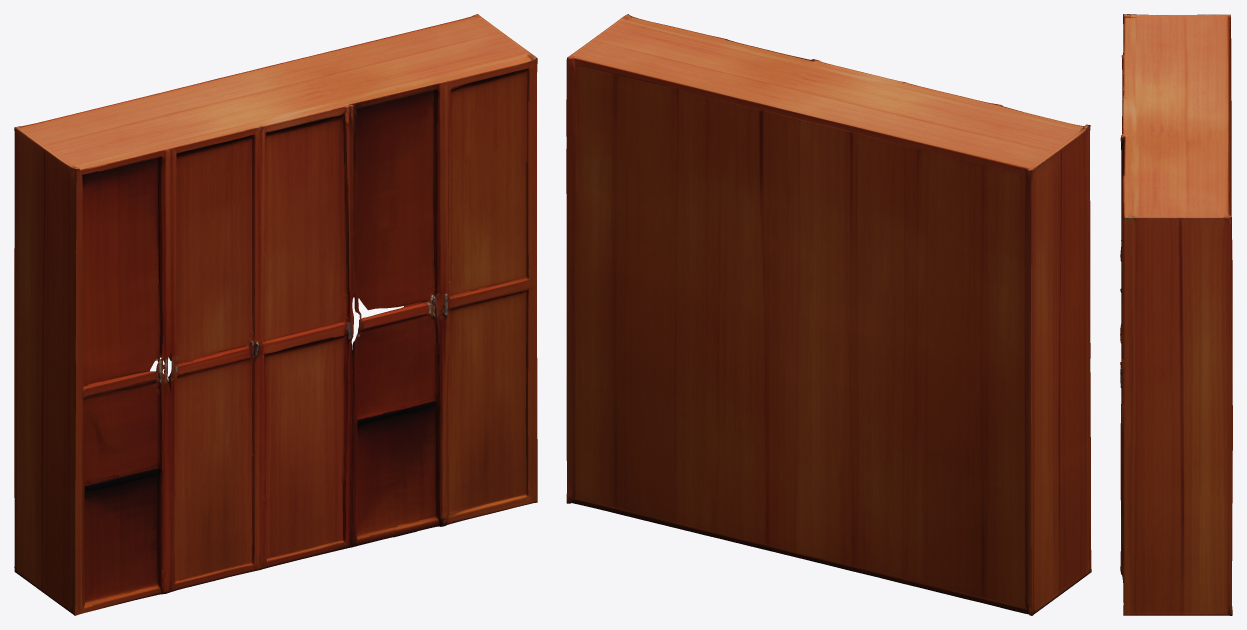
Rendered from editformer.glb.
3 renders of one model, left to right at view 1: azimuth 30°, elevation 25°; view 2: azimuth 150°, elevation 25°; view 3: azimuth 270°, elevation 25°, orthographic. The views are drawn at different scales.
Parts seen in each view (by area): view 1: world; view 2: world; view 3: world.
Part boxes in pixels (<box>): world: <box>14,14,537,615</box>; world: <box>566,14,1091,615</box>; world: <box>1120,14,1232,615</box>.
Bounding box in the file's own units: 1 × 0.9187 × 0.2347.
Materials: 1 (1 with a texture image).
